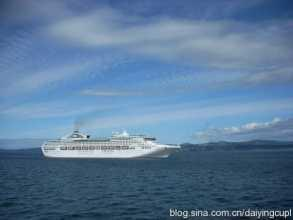youlun: (37, 124, 181, 161)
